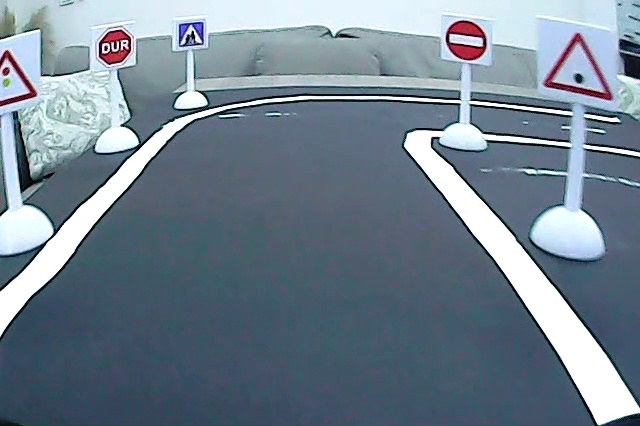do not enter: (443, 19, 491, 61)
green light: (539, 26, 616, 106)
red light: (1, 44, 39, 108)
school crossing: (178, 20, 206, 49)
stop sign: (96, 26, 136, 69)
